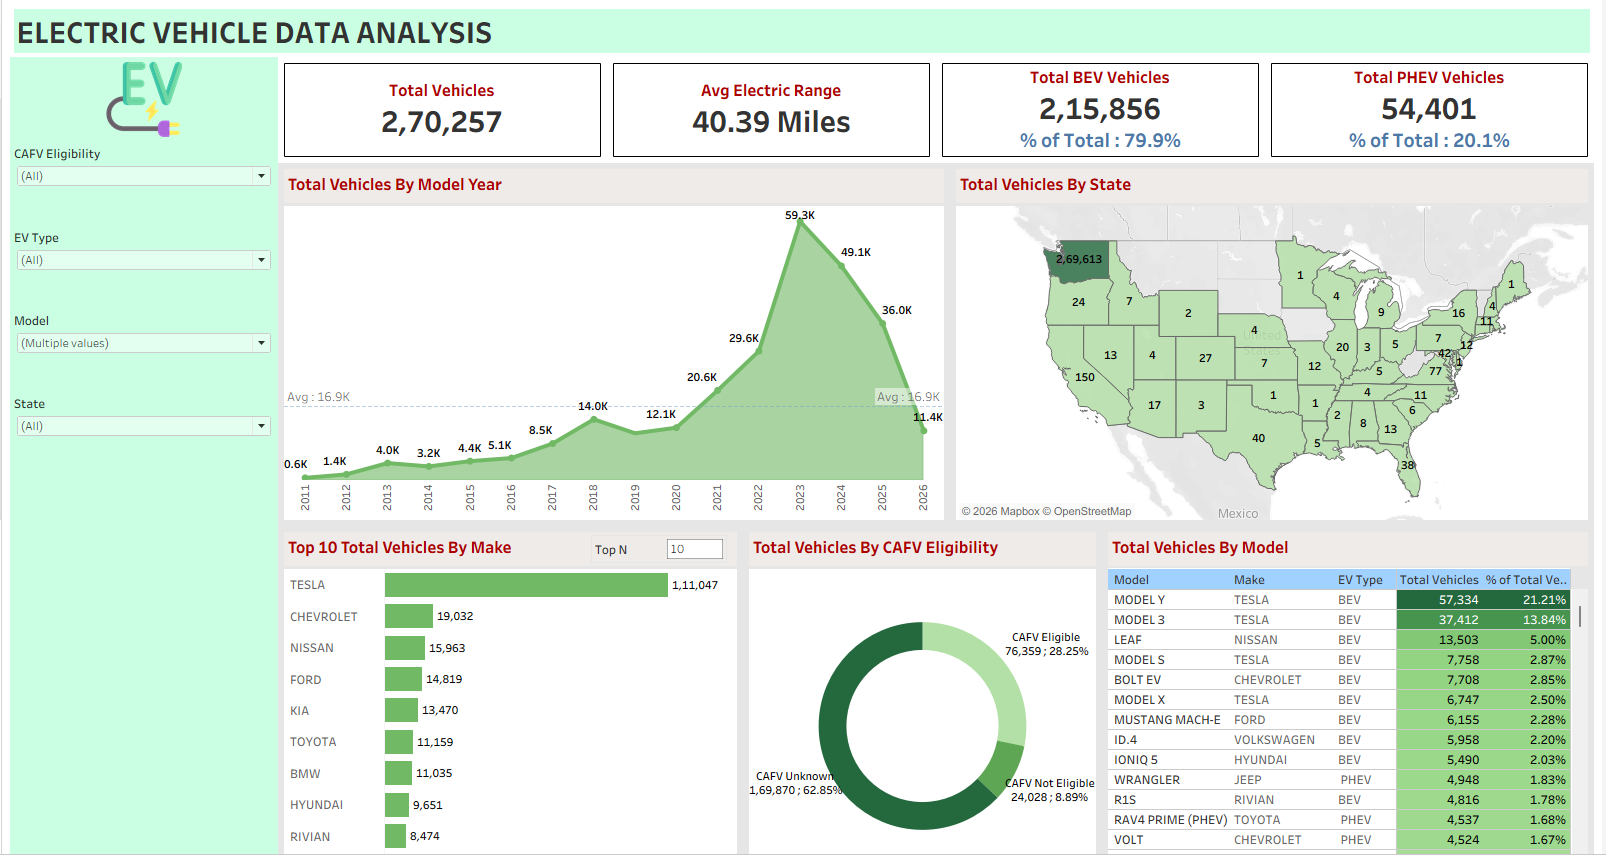

Layout of this report page (visuals, bound fields, positions):
{"tool":"tableau","page":{"name":"Dashboard 1","canvas":[1600,900],"ordinal":0},"visuals":[{"type":"title","box":[8,8,1584,52]},{"type":"image","param":"C:/Users/SAHIL/Downloads/ev.png","box":[8,60,268,84]},{"type":"worksheet","title":"Total Vehicles","mark":"Automatic","box":[276,60,329,106]},{"type":"worksheet","title":"Avg Electric Range","mark":"Automatic","box":[605,60,329,106]},{"type":"worksheet","title":"Total BEV Vehicles","mark":"Automatic","box":[934,60,329,106]},{"type":"worksheet","title":"Total PHEV Vehicles","mark":"Automatic","box":[1263,60,329,106]},{"type":"filter","title":"Total Vehicles By Model Year","param":"[federated.1r157a305rs83n10g9rty0u6lnl2].[none:Clean Alternative Fuel Vehicle (C","box":[8,144,268,84]},{"type":"worksheet","title":"Total Vehicles By Model Year","mark":"Area","rows":["Calculation_0763641829945344","Calculation_0763641829945344"],"cols":["Model Year"],"box":[276,166,672,363]},{"type":"worksheet","title":"Total Vehicles By State","mark":"Multipolygon","box":[948,166,644,363]},{"type":"filter","title":"Total Vehicles By Model Year","param":"[federated.1r157a305rs83n10g9rty0u6lnl2].[none:Electric Vehicle Type:nk]","box":[8,228,268,83]},{"type":"filter","title":"Total Vehicles By Model Year","param":"[federated.1r157a305rs83n10g9rty0u6lnl2].[none:Model:nk]","box":[8,311,268,83]},{"type":"filter","title":"Total Vehicles By Model Year","param":"[federated.1r157a305rs83n10g9rty0u6lnl2].[none:State:nk]","box":[8,394,268,83]},{"type":"blank","box":[8,477,268,83]},{"type":"worksheet","title":"Top 10 Total Vehicles By Make","mark":"Automatic","rows":["Make"],"cols":["Calculation_0763641829945344"],"box":[276,529,465,363]},{"type":"worksheet","title":"Total Vehicles By CAFV Eligibility","mark":"Pie","rows":["Calculation_0763641854496775","Calculation_0763641854496775"],"box":[741,529,359,363]},{"type":"worksheet","title":"Total Vehicles By Model","mark":"Square","rows":["Model","Make","Electric Vehicle Type"],"box":[1100,529,492,363]},{"type":"parameter","param":"[Parameters].[Parameter 1]","box":[589,538,136,28]},{"type":"blank","box":[8,560,268,83]},{"type":"blank","box":[8,643,268,83]},{"type":"blank","box":[8,726,268,83]},{"type":"blank","box":[8,809,268,83]}]}

Visuals, with their boxes on the page's 1600x900 design canvas (x1, y1, x2, y2). These are canvas units, not pixel positions in the 1606x855 screenshot, which may show the page scaled, cropped or inside an application window:
title: {"left": 8, "top": 8, "right": 1592, "bottom": 60}
image: {"left": 8, "top": 60, "right": 276, "bottom": 144}
"Total Vehicles" worksheet: {"left": 276, "top": 60, "right": 605, "bottom": 166}
"Avg Electric Range" worksheet: {"left": 605, "top": 60, "right": 934, "bottom": 166}
"Total BEV Vehicles" worksheet: {"left": 934, "top": 60, "right": 1263, "bottom": 166}
"Total PHEV Vehicles" worksheet: {"left": 1263, "top": 60, "right": 1592, "bottom": 166}
"Total Vehicles By Model Year" filter: {"left": 8, "top": 144, "right": 276, "bottom": 228}
"Total Vehicles By Model Year" worksheet (Area marks): {"left": 276, "top": 166, "right": 948, "bottom": 529}
"Total Vehicles By State" worksheet (Multipolygon marks): {"left": 948, "top": 166, "right": 1592, "bottom": 529}
"Total Vehicles By Model Year" filter: {"left": 8, "top": 228, "right": 276, "bottom": 311}
"Total Vehicles By Model Year" filter: {"left": 8, "top": 311, "right": 276, "bottom": 394}
"Total Vehicles By Model Year" filter: {"left": 8, "top": 394, "right": 276, "bottom": 477}
blank: {"left": 8, "top": 477, "right": 276, "bottom": 560}
"Top 10 Total Vehicles By Make" worksheet: {"left": 276, "top": 529, "right": 741, "bottom": 892}
"Total Vehicles By CAFV Eligibility" worksheet (Pie marks): {"left": 741, "top": 529, "right": 1100, "bottom": 892}
"Total Vehicles By Model" worksheet (Square marks): {"left": 1100, "top": 529, "right": 1592, "bottom": 892}
parameter: {"left": 589, "top": 538, "right": 725, "bottom": 566}
blank: {"left": 8, "top": 560, "right": 276, "bottom": 643}
blank: {"left": 8, "top": 643, "right": 276, "bottom": 726}
blank: {"left": 8, "top": 726, "right": 276, "bottom": 809}
blank: {"left": 8, "top": 809, "right": 276, "bottom": 892}
